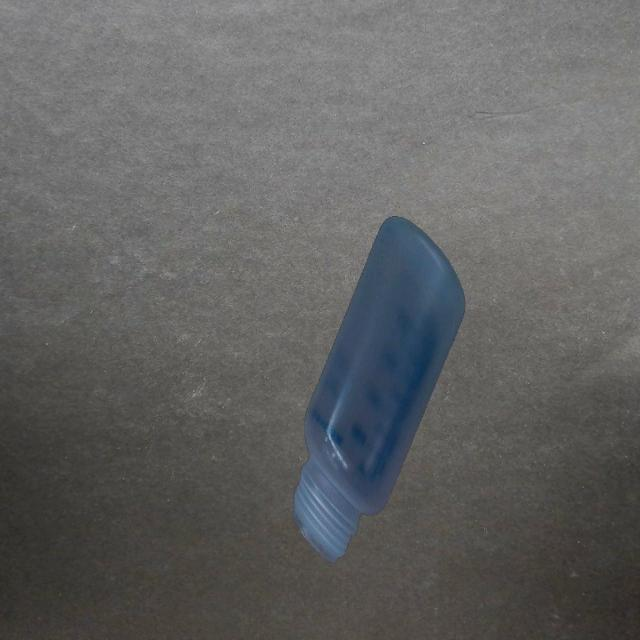bottle: (292, 209, 466, 569)
